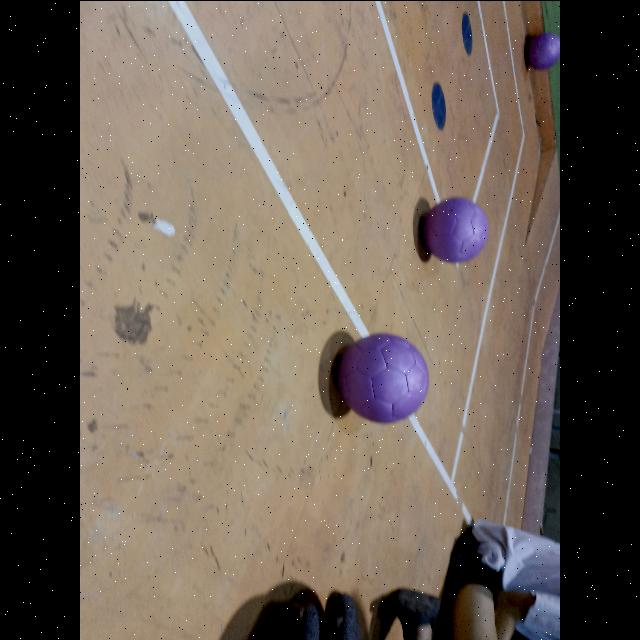P: (338, 332, 429, 422), (423, 196, 489, 262), (526, 32, 560, 68)
